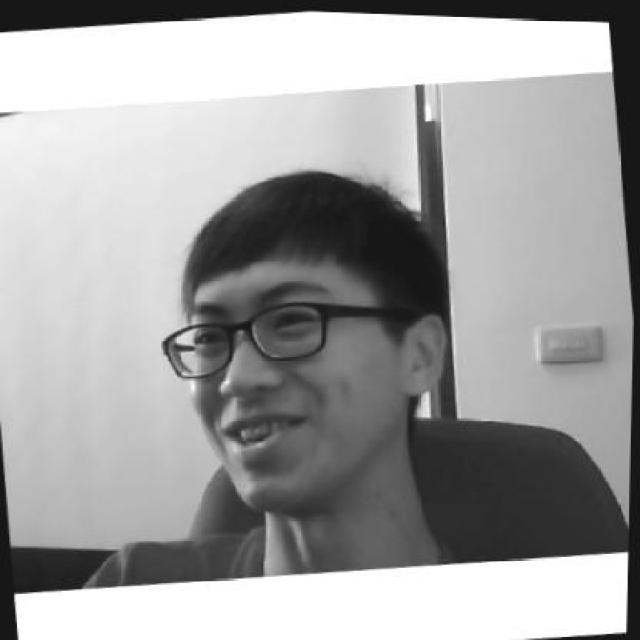attentif: (142, 151, 464, 526)
